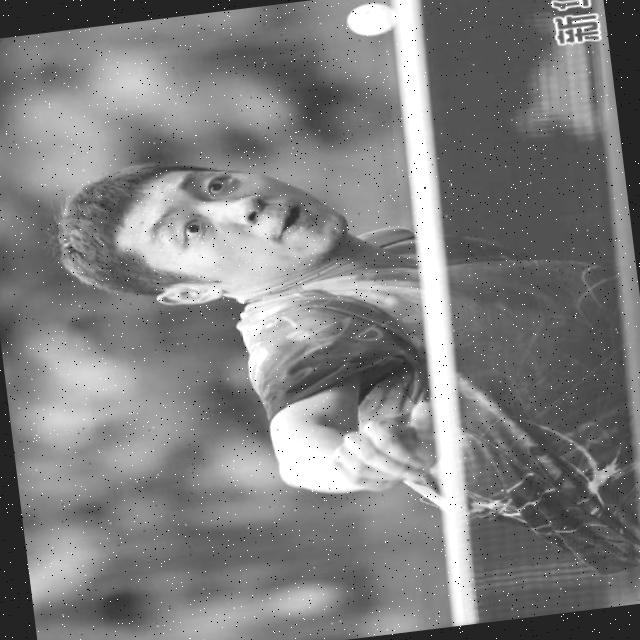ping-pong-ball: (337, 0, 403, 41)
